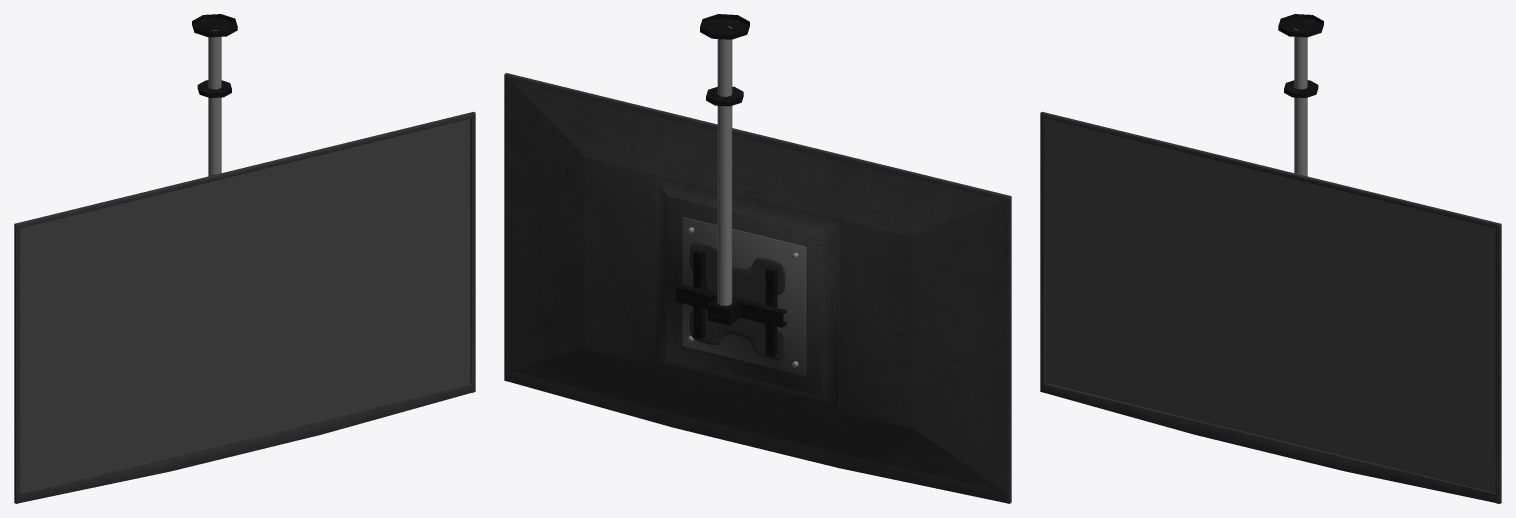
Rendered from CIC_TV.fbx.
3 views of the same model, side by side, from view 1: azimuth 30°, elevation 25°; view 2: azimuth 150°, elevation 25°; view 3: azimuth 330°, elevation 25° (orthographic). The views are drawn at different scales.
Visible parts, largest first — view 1: Cylinder.002; view 2: Cylinder.002; view 3: Cylinder.002.
Boxes of the visible parts, x1,y1,x2,y2 form: Cylinder.002: (14, 14, 475, 503); Cylinder.002: (504, 14, 1011, 503); Cylinder.002: (1040, 14, 1501, 503).
Bounding box in the file's own units: 1.35 × 1.14 × 0.2184.
